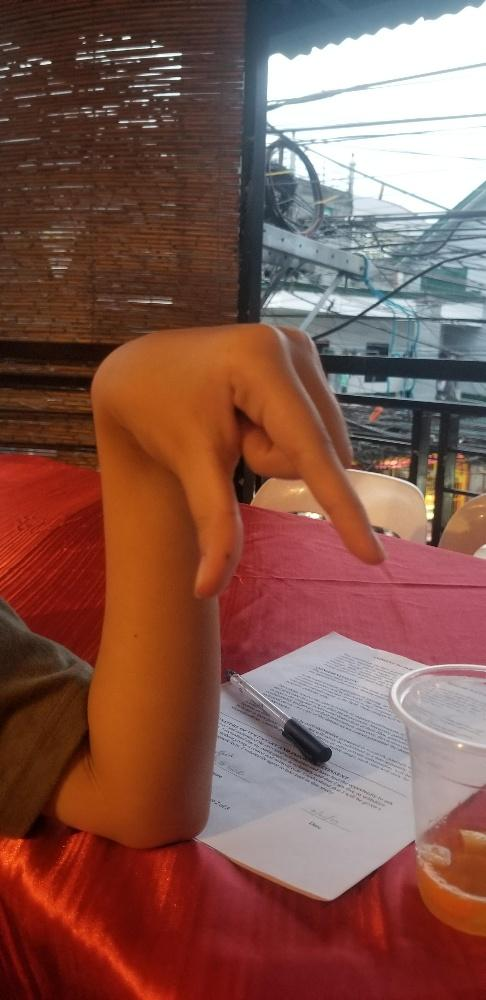q: (88, 321, 388, 600)
